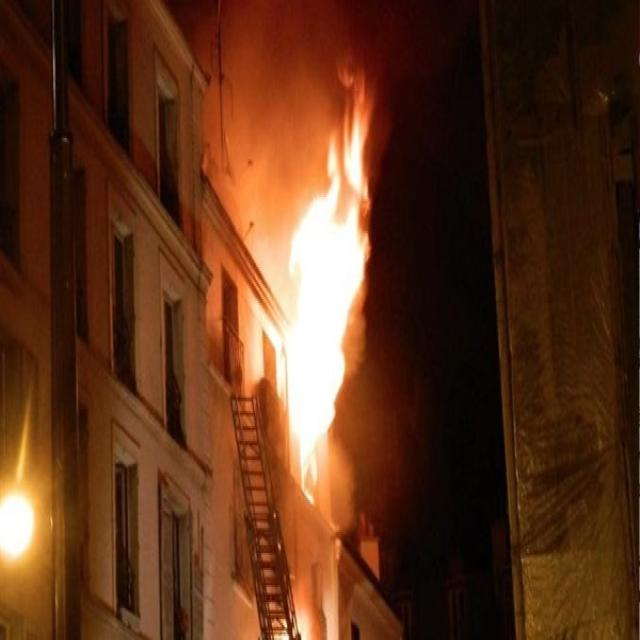fire: (288, 206, 352, 481)
smoke: (226, 1, 320, 191)
